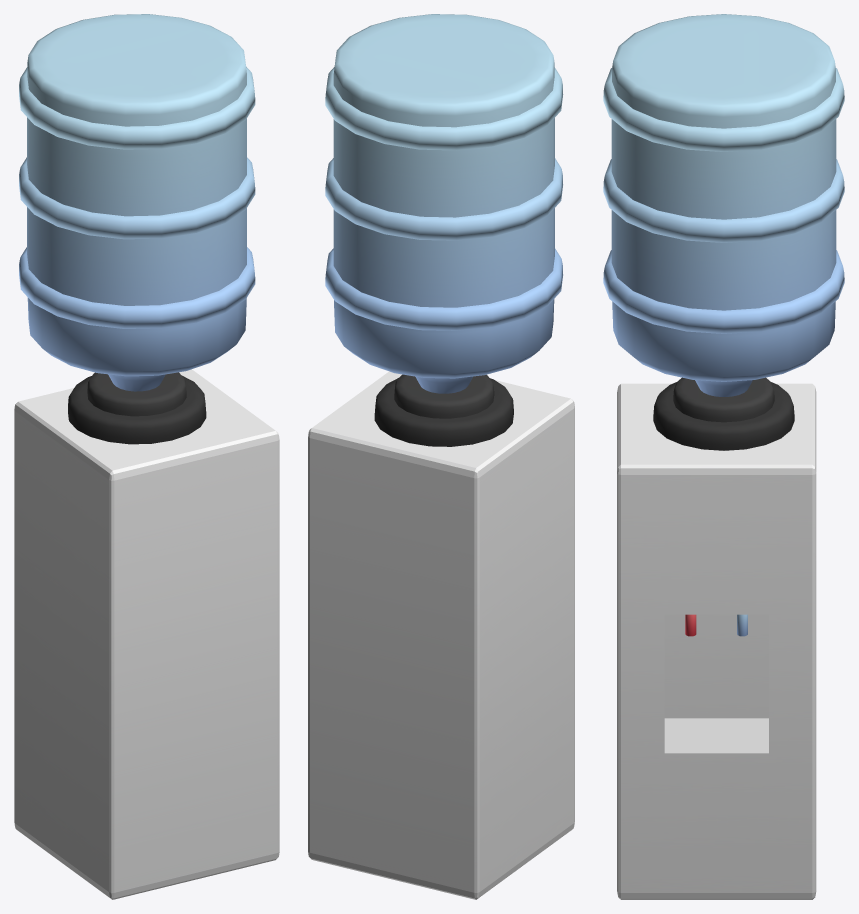
The model's file is Aguador.fbx.
The picture shows the model from 3 angles, left to right: view 1: azimuth 30°, elevation 25°; view 2: azimuth 150°, elevation 25°; view 3: azimuth 270°, elevation 25°; orthographic projection.
Parts seen in each view (by area): view 1: Caja agua, Soportes botella, Soporte; view 2: Caja agua, Soportes botella, Soporte; view 3: Caja agua, Soportes botella, Soporte, Grifos.
Part boxes in pixels (<box>): Caja agua: <box>14,369,279,899</box>; Soportes botella: <box>19,14,255,391</box>; Soporte: <box>68,372,206,444</box>; Caja agua: <box>308,371,574,899</box>; Soportes botella: <box>325,14,563,393</box>; Soporte: <box>374,374,513,446</box>; Caja agua: <box>617,383,816,899</box>; Soportes botella: <box>603,14,844,396</box>; Soporte: <box>653,377,794,450</box>; Grifos: <box>685,614,747,636</box>.
Size of the model in its own units: 46.83 by 171 by 46.86.
